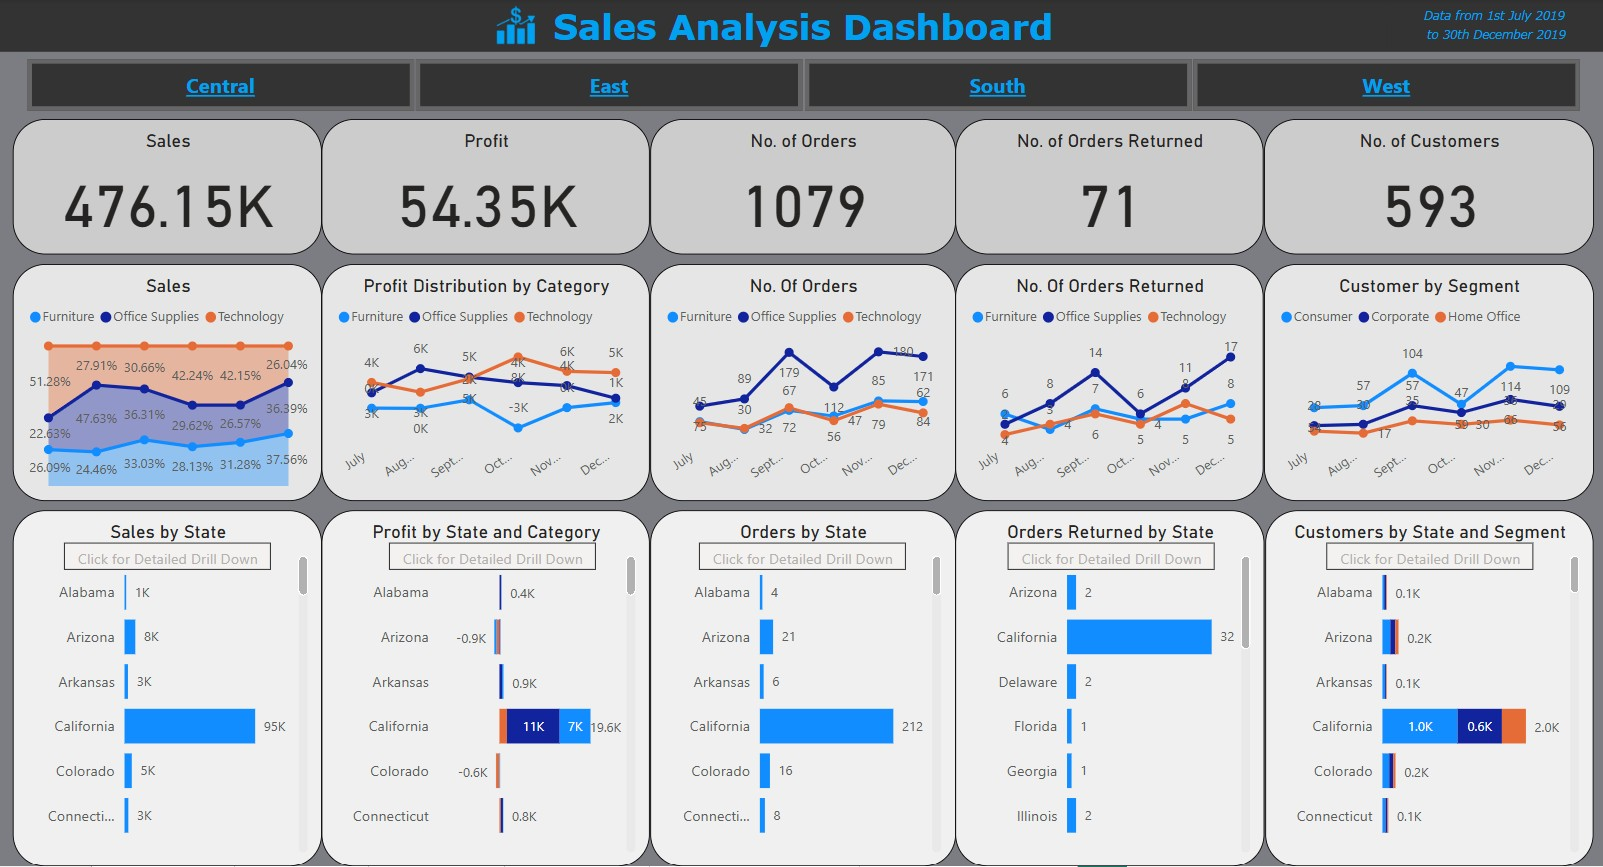

The page's visual inventory and layout, read from the dashboard file:
{"tool":"powerbi","page":{"name":"Landing Page","canvas":[1480,800],"ordinal":0},"visuals":[{"type":"hundredPercentStackedAreaChart","title":"Sales","fields":{"Category":["Orders_Table.Order Date.Variation.Date Hierarchy.Month"],"Y":["Sum(Orders_Table.Sales)"],"Series":["Product_DimTable.Category"]},"box":[12.5,243.8,285,218.8],"z":0},{"type":"lineChart","title":"Profit Distribution by Category","fields":{"Y":["Sum(Orders_Table.Profit)"],"Series":["Product_DimTable.Category"],"Category":["Orders_Table.Order Date.Variation.Date Hierarchy.Month"]},"box":[297.5,243.8,302.5,218.8],"z":1000},{"type":"lineChart","title":"No. Of Orders Returned","fields":{"Category":["Orders_Table.Order Date.Variation.Date Hierarchy.Month"],"Y":["Count(Orders_Table.Order ID)"],"Series":["Product_DimTable.Category"]},"box":[881.2,243.8,283.8,218.8],"z":2000},{"type":"lineChart","title":"Customer by Segment","fields":{"Y":["Count(Orders_Table.Customer ID)"],"Series":["Customer_DimTable.Segment"],"Category":["Orders_Table.Order Date.Variation.Date Hierarchy.Month"]},"box":[1165,243.8,303.8,218.8],"z":3000},{"type":"barChart","fields":{"Category":["Geographical_DimTable.State"],"Y":["Sum(Orders_Table.Sales)"]},"box":[12.5,471.2,285,328.8],"z":4000},{"type":"barChart","fields":{"Category":["Geographical_DimTable.State"],"Y":["Sum(Orders_Table.Profit)"],"Series":["Product_DimTable.Category"]},"box":[297.5,471.2,302.5,328.8],"z":5000},{"type":"barChart","title":"Orders Returned by State","fields":{"Category":["Geographical_DimTable.State"],"Y":["Count(Orders_Table.Order ID)"]},"box":[881.2,471.2,285,328.8],"z":6000},{"type":"barChart","title":"Orders by State","fields":{"Category":["Geographical_DimTable.State"],"Y":["Count(Orders_Table.Order ID)"]},"box":[600,471.2,281.2,328.8],"z":7000},{"type":"lineChart","title":"No. Of Orders","fields":{"Category":["Orders_Table.Order Date.Variation.Date Hierarchy.Month"],"Y":["Count(Orders_Table.Order ID)"],"Series":["Product_DimTable.Category"]},"box":[600,243.8,281.2,218.8],"z":8000},{"type":"barChart","title":"Customers by State and Segment","fields":{"Y":["CountNonNull(Orders_Table.Customer ID)"],"Series":["Customer_DimTable.Segment"],"Category":["Geographical_DimTable.State"]},"box":[1166.2,471.2,302.5,328.8],"z":9000},{"type":"textbox","box":[0,0,1480,48.8],"z":10000},{"type":"textbox","box":[1277.5,0,202.5,47.5],"z":11000},{"type":"slicer","fields":{"Values":["Geographical_DimTable.Region"]},"box":[0,48.8,1480,61.2],"z":12000},{"type":"card","title":"Sales","fields":{"Values":["Sum(Orders_Table.Sales)"]},"box":[12.5,110,285,125],"z":13000},{"type":"card","title":"Profit","fields":{"Values":["Sum(Orders_Table.Profit)"]},"box":[297.5,110,302.5,125],"z":14000},{"type":"card","title":"No. of Orders","fields":{"Values":["Count(Orders_Table.Order ID)"]},"box":[600,110,281.2,125],"z":15000},{"type":"card","title":"No. of Orders Returned","fields":{"Values":["Count(Orders_Table.Order ID)"]},"box":[881.2,110,283.8,125],"z":16000},{"type":"card","title":"No. of Customers","fields":{"Values":["Count(Orders_Table.Customer ID)"]},"box":[1165,110,303.8,125],"z":17000},{"type":"actionButton","title":"Click for Detail Drilldown","box":[60,501.2,190,25],"z":18000},{"type":"actionButton","title":"Click for Detail Drilldown","box":[358.8,501.2,190,25],"z":19000},{"type":"actionButton","title":"Click for Detail Drilldown","box":[645,501.2,190,25],"z":20000},{"type":"actionButton","title":"Click for Detail Drilldown","box":[928.8,501.2,190,25],"z":21000},{"type":"actionButton","title":"Click for Detail Drilldown","box":[1222.5,501.2,190,25],"z":22000},{"type":"image","box":[453.7,0,44.9,48.4],"z":23000}]}

Visuals, with their boxes in screenshot pixels (x1, y1, x2, y2), scaled from the page's 1480x800 canvas onto the 1603x867 screenshot:
"Sales" hundredPercentStackedAreaChart: {"x1": 14, "y1": 264, "x2": 322, "y2": 501}
"Profit Distribution by Category" lineChart: {"x1": 322, "y1": 264, "x2": 650, "y2": 501}
"No. Of Orders Returned" lineChart: {"x1": 954, "y1": 264, "x2": 1262, "y2": 501}
"Customer by Segment" lineChart: {"x1": 1262, "y1": 264, "x2": 1591, "y2": 501}
barChart - Geographical_DimTable.State x Sum(Orders_Table.Sales): {"x1": 14, "y1": 511, "x2": 322, "y2": 866}
barChart - Geographical_DimTable.State x Sum(Orders_Table.Profit): {"x1": 322, "y1": 511, "x2": 650, "y2": 866}
"Orders Returned by State" barChart: {"x1": 954, "y1": 511, "x2": 1263, "y2": 866}
"Orders by State" barChart: {"x1": 650, "y1": 511, "x2": 954, "y2": 866}
"No. Of Orders" lineChart: {"x1": 650, "y1": 264, "x2": 954, "y2": 501}
"Customers by State and Segment" barChart: {"x1": 1263, "y1": 511, "x2": 1591, "y2": 866}
textbox: {"x1": 0, "y1": 0, "x2": 1602, "y2": 53}
textbox: {"x1": 1384, "y1": 0, "x2": 1602, "y2": 51}
slicer - Geographical_DimTable.Region: {"x1": 0, "y1": 53, "x2": 1602, "y2": 119}
"Sales" card: {"x1": 14, "y1": 119, "x2": 322, "y2": 255}
"Profit" card: {"x1": 322, "y1": 119, "x2": 650, "y2": 255}
"No. of Orders" card: {"x1": 650, "y1": 119, "x2": 954, "y2": 255}
"No. of Orders Returned" card: {"x1": 954, "y1": 119, "x2": 1262, "y2": 255}
"No. of Customers" card: {"x1": 1262, "y1": 119, "x2": 1591, "y2": 255}
"Click for Detail Drilldown" actionButton: {"x1": 65, "y1": 543, "x2": 271, "y2": 570}
"Click for Detail Drilldown" actionButton: {"x1": 389, "y1": 543, "x2": 594, "y2": 570}
"Click for Detail Drilldown" actionButton: {"x1": 699, "y1": 543, "x2": 904, "y2": 570}
"Click for Detail Drilldown" actionButton: {"x1": 1006, "y1": 543, "x2": 1212, "y2": 570}
"Click for Detail Drilldown" actionButton: {"x1": 1324, "y1": 543, "x2": 1530, "y2": 570}
image: {"x1": 491, "y1": 0, "x2": 540, "y2": 52}
